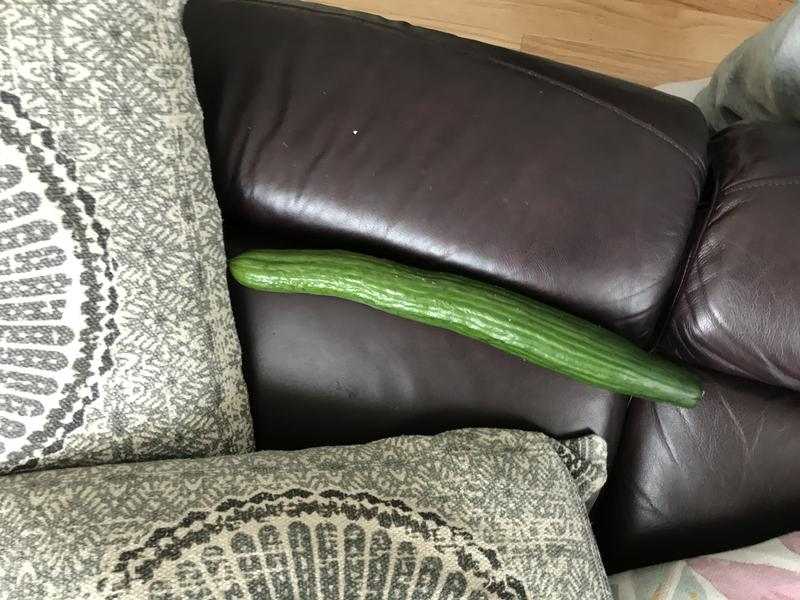cucumber: (220, 238, 716, 416)
